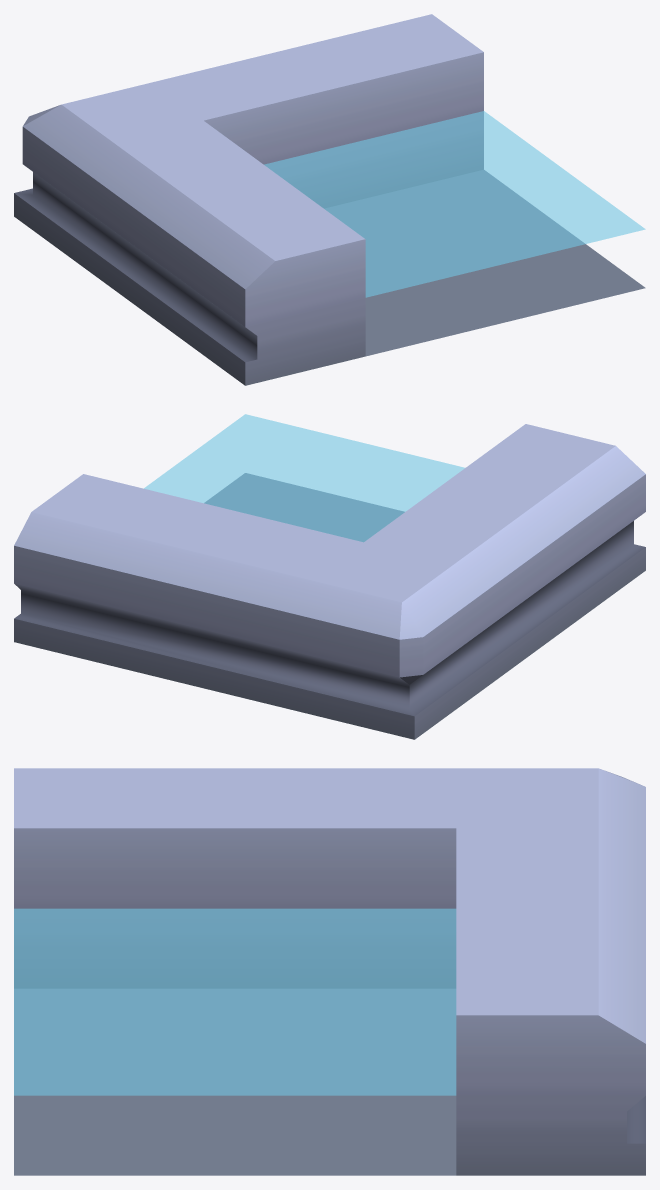
Rendered from fountain-corner.glb.
3 views of the same model, one above another, from view 1: azimuth 30°, elevation 25°; view 2: azimuth 150°, elevation 25°; view 3: azimuth 270°, elevation 25° (orthographic). The views are drawn at different scales.
Parts seen in each view (by area): view 1: fountain-corner, (%ignore); view 2: fountain-corner, (%ignore); view 3: fountain-corner, (%ignore).
Boxes of the visible parts, x1,y1,x2,y2 form: fountain-corner: (14,14,645,385); (%ignore): (264,111,645,297); fountain-corner: (14,424,645,739); (%ignore): (144,414,464,542); fountain-corner: (14,768,645,1175); (%ignore): (14,908,456,1095).
Size of the model in its own units: 1 by 0.2799 by 1.
Materials: 2 (1 with a texture image).
